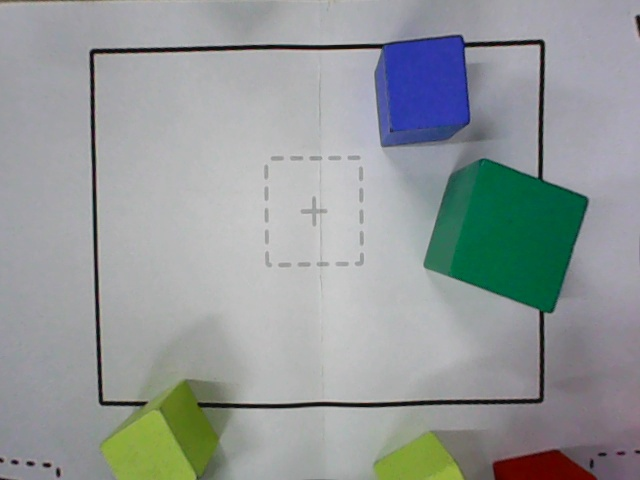upside of big cube: (449, 159, 589, 314)
upside of small cube: (382, 36, 470, 131), (97, 408, 199, 479), (420, 461, 463, 479)
